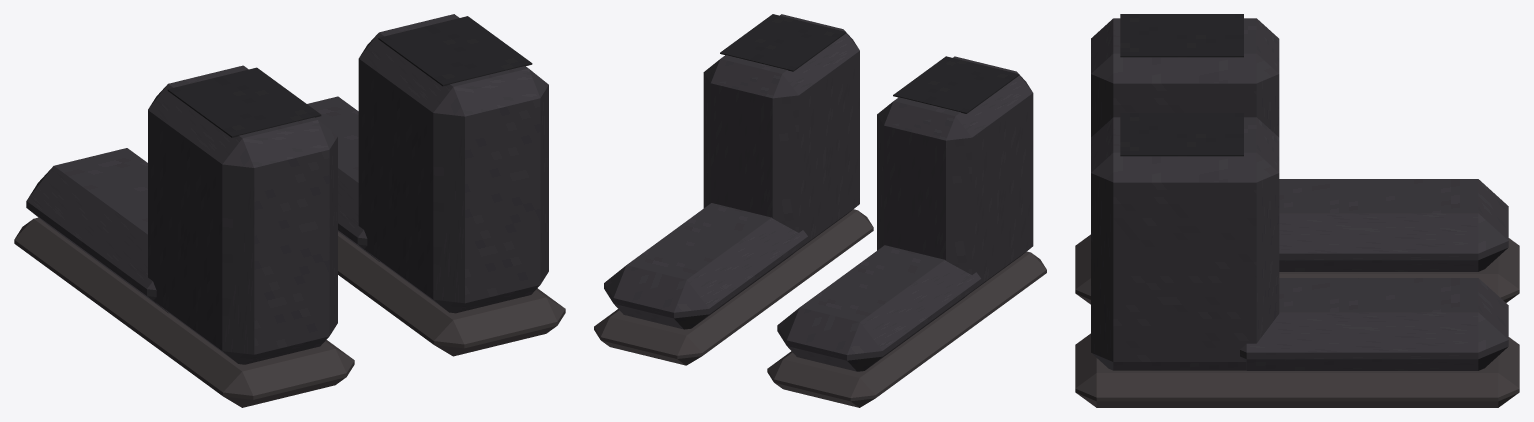
The model's file is knee_high_boots.glb.
3 views of the same model, side by side, from view 1: azimuth 30°, elevation 25°; view 2: azimuth 150°, elevation 25°; view 3: azimuth 270°, elevation 25° (orthographic). The views are drawn at different scales.
Visible parts, largest first — view 1: block_shaft (×2), block_shaped sole (×2), block_vamp and toe (×2), block_opening (×2); view 2: block_shaft (×2), block_vamp and toe (×2), block_shaped sole (×2), block_opening (×2); view 3: block_shaft (×2), block_vamp and toe (×2), block_shaped sole (×2), block_opening (×2).
Boxes of the visible parts, x1=… form: block_shaft (×2): x1=148, y1=14, x2=548, y2=364; block_shaped sole (×2): x1=14, y1=217, x2=565, y2=407; block_vamp and toe (×2): x1=26, y1=96, x2=379, y2=313; block_opening (×2): x1=167, y1=16, x2=532, y2=137; block_shaft (×2): x1=703, y1=14, x2=1033, y2=291; block_vamp and toe (×2): x1=604, y1=203, x2=981, y2=371; block_shaped sole (×2): x1=594, y1=209, x2=1046, y2=407; block_opening (×2): x1=720, y1=14, x2=1019, y2=113; block_shaft (×2): x1=1091, y1=18, x2=1279, y2=370; block_vamp and toe (×2): x1=1240, y1=179, x2=1508, y2=370; block_shaped sole (×2): x1=1075, y1=234, x2=1519, y2=407; block_opening (×2): x1=1120, y1=14, x2=1243, y2=156.
Bounding box in the file's own units: 0.2826 × 0.2065 × 0.33.
1 material, 1 textured.
